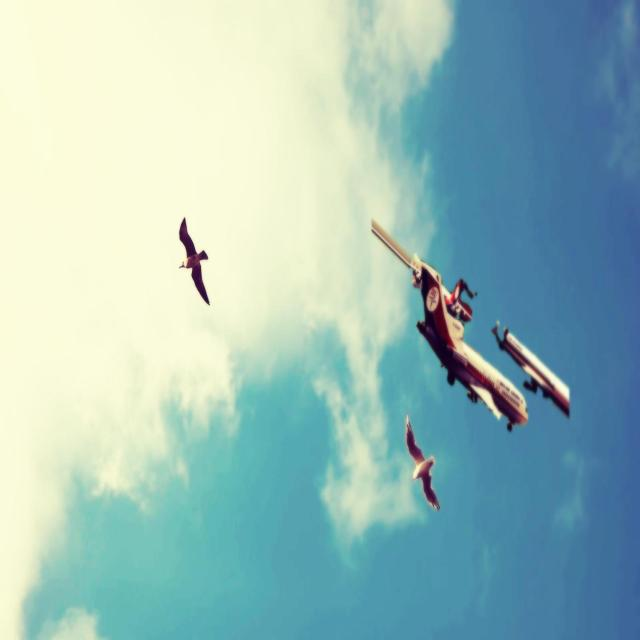airplane: (370, 217, 530, 434), (491, 319, 570, 418)
